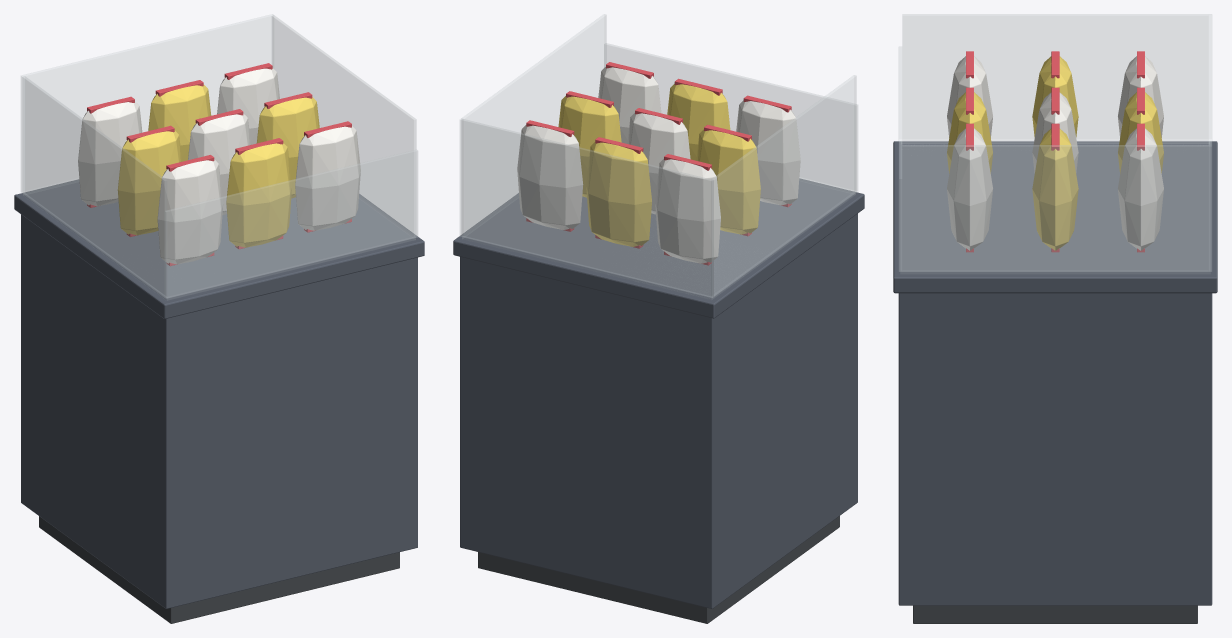
Rendered from acrylic-popcorn-bin.glb.
3 renders of one model, left to right at view 1: azimuth 30°, elevation 25°; view 2: azimuth 150°, elevation 25°; view 3: azimuth 270°, elevation 25°, orthographic. The views are drawn at different scales.
Visible parts, largest first — view 1: PedestalCarcass, PedestalTopDeck, BinFrontWall, BinLeftWall, BinBackWall, BinRightWall, PopcornBag_0, PopcornBag_2, PopcornBag_1, PedestalToeKick, PopcornBag_3, PopcornBag_6 (+5 smaller); view 2: PedestalCarcass, BinBackWall, PedestalTopDeck, BinLeftWall, BinRightWall, BinFrontWall, PopcornBag_6, PopcornBag_7, PopcornBag_8, PedestalToeKick, PopcornBag_3, PopcornBag_0 (+5 smaller); view 3: PedestalCarcass, BinRightWall, PedestalTopDeck, BinLeftWall, PedestalToeKick, PopcornBag_5, PopcornBag_2, PopcornBag_8, PopcornBag_3, PopcornBag_4, PopcornBag_0, PopcornBag_6 (+5 smaller).
Part boxes in pixels (x1,y1,x2,y2): PedestalCarcass: [21, 214, 417, 608]; PedestalTopDeck: [14, 179, 424, 318]; BinFrontWall: [165, 149, 417, 298]; BinLeftWall: [22, 76, 166, 297]; BinBackWall: [21, 14, 273, 192]; BinRightWall: [272, 15, 416, 235]; PopcornBag_0: [157, 159, 223, 264]; PopcornBag_2: [295, 126, 360, 230]; PopcornBag_1: [226, 143, 291, 247]; PedestalToeKick: [39, 516, 399, 623]; PopcornBag_3: [117, 130, 181, 235]; PopcornBag_6: [78, 101, 142, 206]; PedestalCarcass: [460, 213, 857, 608]; BinBackWall: [460, 118, 713, 297]; PedestalTopDeck: [453, 178, 864, 318]; BinLeftWall: [711, 75, 856, 296]; BinRightWall: [461, 14, 606, 235]; BinFrontWall: [604, 43, 857, 191]; PopcornBag_6: [655, 159, 720, 263]; PopcornBag_7: [586, 142, 651, 246]; PopcornBag_8: [517, 125, 583, 229]; PedestalToeKick: [478, 516, 839, 623]; PopcornBag_3: [696, 129, 760, 234]; PopcornBag_0: [736, 100, 800, 205]; PedestalCarcass: [898, 293, 1212, 605]; BinRightWall: [902, 145, 1208, 271]; PedestalTopDeck: [893, 141, 1217, 293]; BinLeftWall: [902, 14, 1208, 140]; PedestalToeKick: [913, 605, 1197, 623]; PopcornBag_5: [1032, 128, 1078, 250]; PopcornBag_2: [947, 128, 992, 250]; PopcornBag_8: [1118, 128, 1163, 250]; PopcornBag_3: [1032, 56, 1078, 137]; PopcornBag_4: [1032, 92, 1078, 172]; PopcornBag_0: [947, 56, 992, 137]; PopcornBag_6: [1118, 56, 1163, 137].
Size of the model in its own units: 1.82 by 3 by 1.82.
